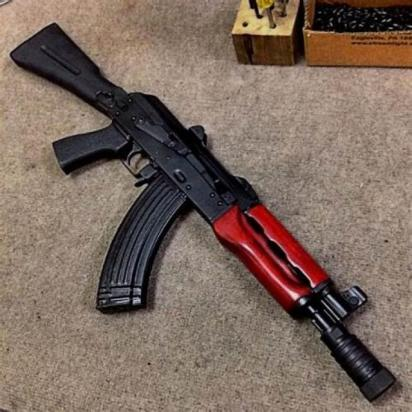Gun: (5, 19, 402, 404)
